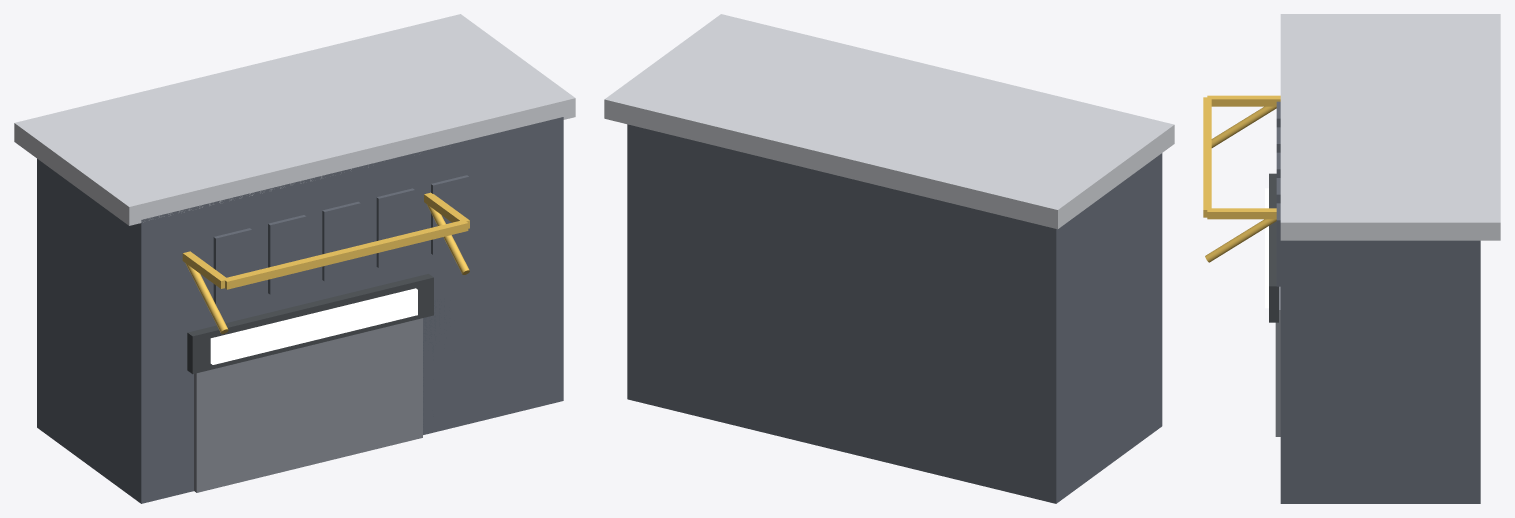
The model's file is building_ez_studio.glb.
3 renders of one model, left to right at view 1: azimuth 30°, elevation 25°; view 2: azimuth 150°, elevation 25°; view 3: azimuth 270°, elevation 25°, orthographic. The views are drawn at different scales.
Visible parts, largest first — view 1: EZ_Building_Shell, EZ_Cornice, EZ_Storefront_Doorway, EZ_STUDIO_Text_Placard, EZ_Sign_Board, Truss_Beam_1, ZZZ_Louver_1, ZZZ_Louver_2, ZZZ_Louver_3, ZZZ_Louver_0, ZZZ_Louver_4, Truss_Strut_0 (+1 smaller); view 2: EZ_Building_Shell, EZ_Cornice; view 3: EZ_Building_Shell, EZ_Cornice, EZ_Sign_Board, Truss_Beam_1, Truss_Beam_0, Truss_Beam_2, EZ_Storefront_Doorway, Truss_Strut_1, Truss_Strut_0, ZZZ_Louver_4, EZ_STUDIO_Text_Placard.
Part boxes in pixels (bbox=[...]): EZ_Building_Shell: bbox=[37, 117, 563, 503]; EZ_Cornice: bbox=[14, 14, 575, 225]; EZ_Storefront_Doorway: bbox=[194, 318, 422, 492]; EZ_STUDIO_Text_Placard: bbox=[210, 288, 417, 364]; EZ_Sign_Board: bbox=[187, 273, 433, 374]; Truss_Beam_1: bbox=[223, 220, 468, 289]; ZZZ_Louver_1: bbox=[268, 215, 306, 294]; ZZZ_Louver_2: bbox=[322, 201, 360, 281]; ZZZ_Louver_3: bbox=[376, 188, 414, 267]; ZZZ_Louver_0: bbox=[213, 228, 251, 307]; ZZZ_Louver_4: bbox=[431, 175, 469, 254]; Truss_Strut_0: bbox=[185, 263, 228, 333]; EZ_Building_Shell: bbox=[627, 124, 1162, 503]; EZ_Cornice: bbox=[604, 14, 1174, 229]; EZ_Building_Shell: bbox=[1280, 240, 1480, 503]; EZ_Cornice: bbox=[1280, 14, 1500, 240]; EZ_Sign_Board: bbox=[1269, 173, 1278, 322]; Truss_Beam_1: bbox=[1203, 97, 1211, 217]; Truss_Beam_0: bbox=[1207, 95, 1280, 106]; Truss_Beam_2: bbox=[1207, 208, 1276, 219]; EZ_Storefront_Doorway: bbox=[1275, 286, 1280, 436]; Truss_Strut_1: bbox=[1205, 219, 1276, 262]; Truss_Strut_0: bbox=[1211, 106, 1276, 147]; ZZZ_Louver_4: bbox=[1276, 203, 1280, 286]; EZ_STUDIO_Text_Placard: bbox=[1265, 188, 1268, 308].
Bounding box in the file's own units: 14.8 × 9.5 × 8.92.
